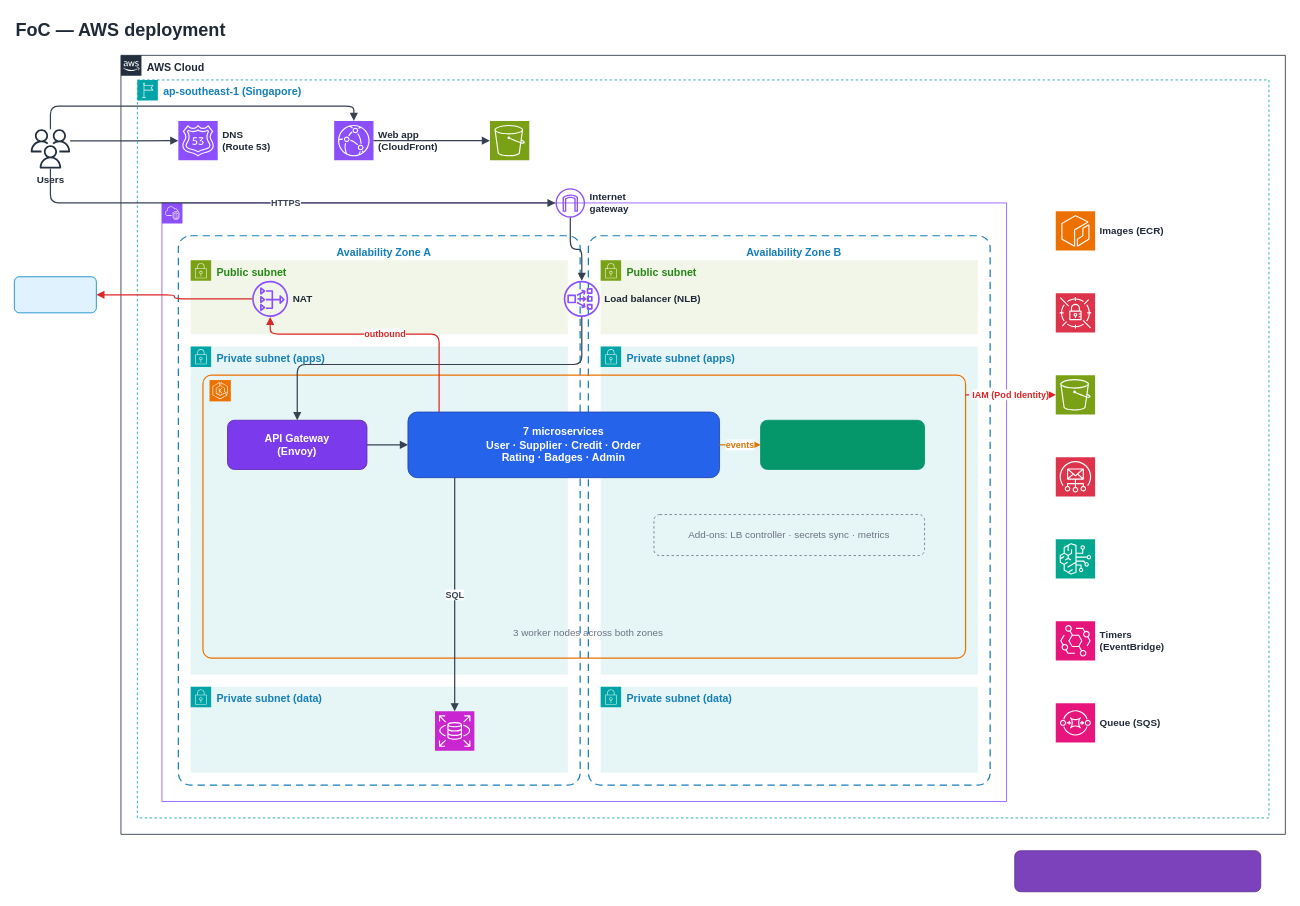
Image size: 1300x906. Some labels were removed from this diagram. The shapes that lost their labels are listed below. From the top down, each one's box as (x1, y1, x2, y2) in pixels, then its label:
(489, 120, 529, 160): Site files (S3)
(14, 276, 96, 313): Telegram Bot API
(1055, 292, 1095, 333): Secrets (Secrets Manager)
(1055, 374, 1095, 415): Photos (S3)
(760, 419, 925, 469): Kafka (Strimzi) 3 brokers
(1055, 456, 1095, 497): Email (SES)
(161, 202, 1007, 802): VPC
(202, 374, 966, 658): Kubernetes (EKS)
(1055, 538, 1095, 579): AI review (Bedrock)
(434, 711, 474, 751): PostgreSQL (RDS) one DB per service
(1014, 850, 1261, 892): Terraform provisions everything inside the AWS Cloud box
